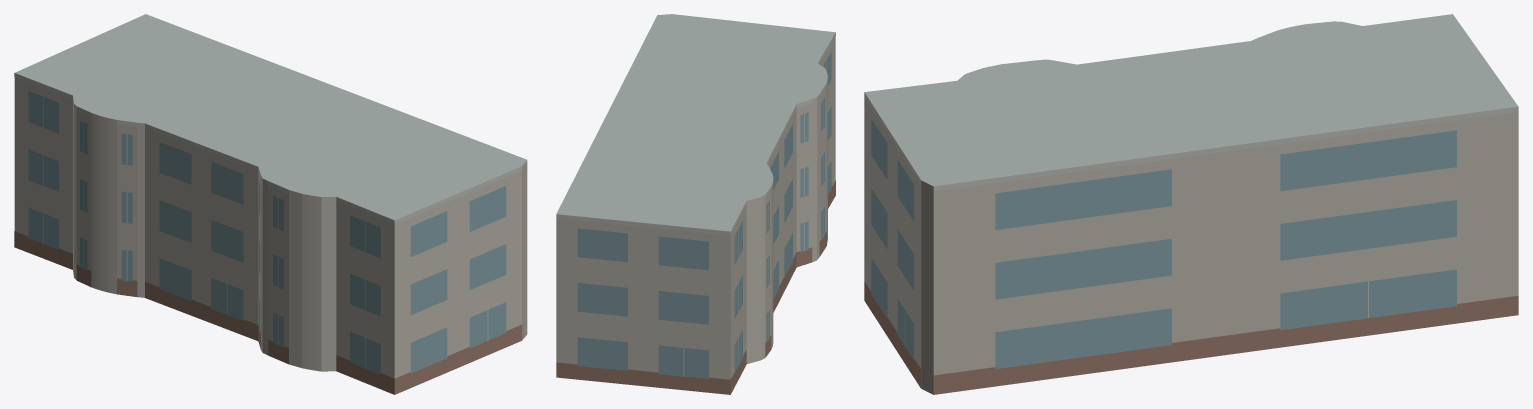
Rendered from survey-upis-32467847.glb.
3 renders of one model, left to right at view 1: azimuth 30°, elevation 25°; view 2: azimuth 150°, elevation 25°; view 3: azimuth 270°, elevation 25°, orthographic. The views are drawn at different scales.
Parts seen in each view (by area): view 1: survey-upis-32467847.tmp; view 2: survey-upis-32467847.tmp; view 3: survey-upis-32467847.tmp.
Part boxes in pixels (x1,y1,x2,y2): survey-upis-32467847.tmp: [14, 14, 527, 394]; survey-upis-32467847.tmp: [556, 14, 835, 394]; survey-upis-32467847.tmp: [864, 14, 1518, 394].
Size of the model in its own units: 17.92 by 10.1 by 28.73.
